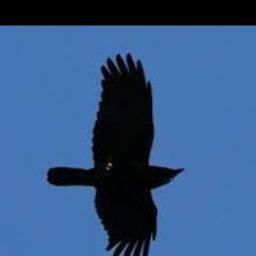Crow: (47, 53, 184, 256)
